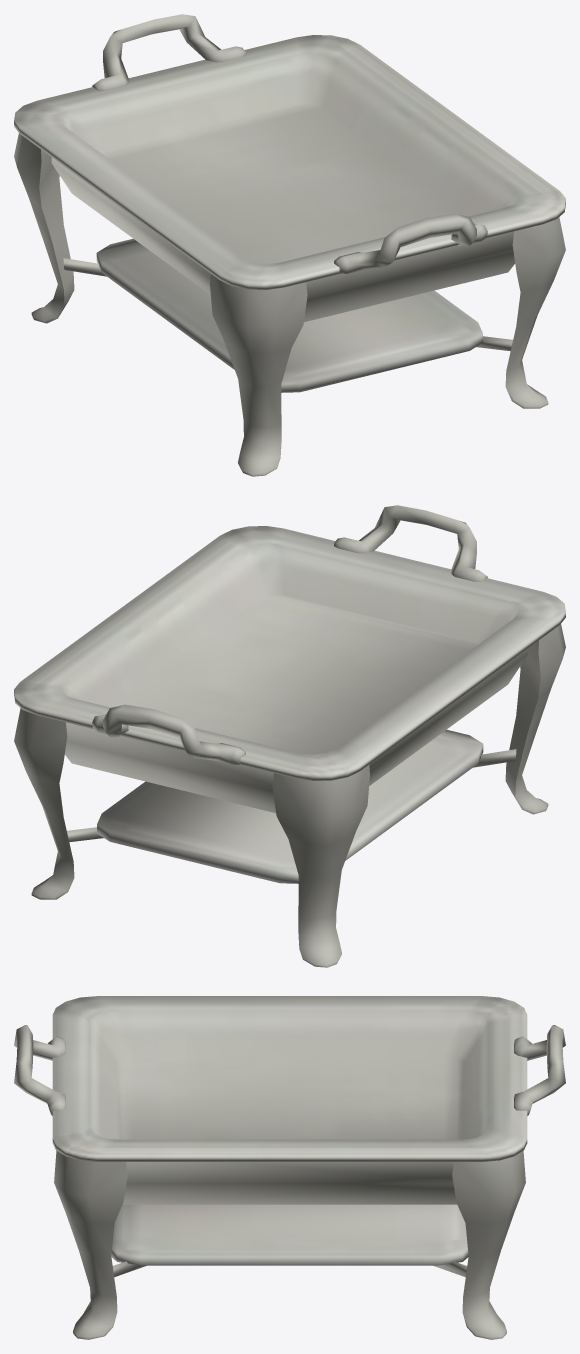
3 views of the same model, one above another, from view 1: azimuth 30°, elevation 25°; view 2: azimuth 150°, elevation 25°; view 3: azimuth 270°, elevation 25° (orthographic). The views are drawn at different scales.
Size of the model in its own units: 6.39 by 4.32 by 9.33.
Materials: 2 (2 with a texture image).
